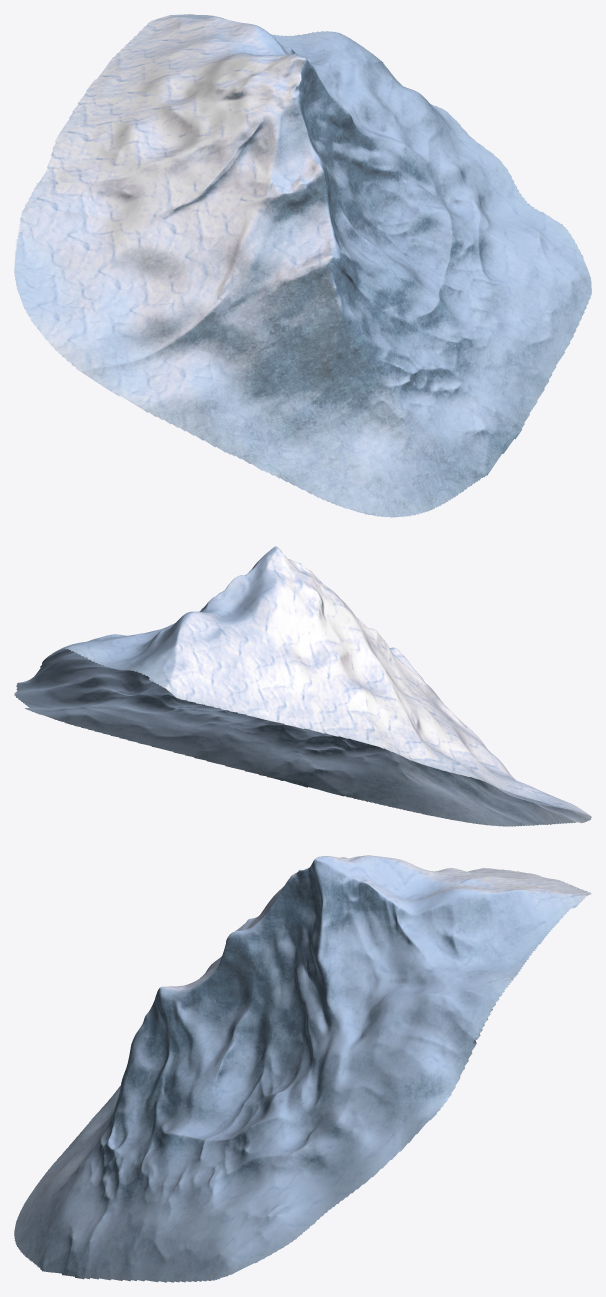
File: main.glb
The picture shows the model from 3 angles, top to bottom: view 1: azimuth 30°, elevation 25°; view 2: azimuth 150°, elevation 25°; view 3: azimuth 270°, elevation 25°; orthographic projection. The views are drawn at different scales.
Parts seen in each view (by area): view 1: Landscape-low2; view 2: Landscape-low2; view 3: Landscape-low2.
Boxes of the visible parts, left/top/right/bottom form: Landscape-low2: left=14, top=14, right=591, bottom=517; Landscape-low2: left=14, top=546, right=591, bottom=826; Landscape-low2: left=14, top=855, right=591, bottom=1282.
Size of the model in its own units: 2.07 by 1.31 by 1.75.
Materials: 1 (1 with a texture image).
